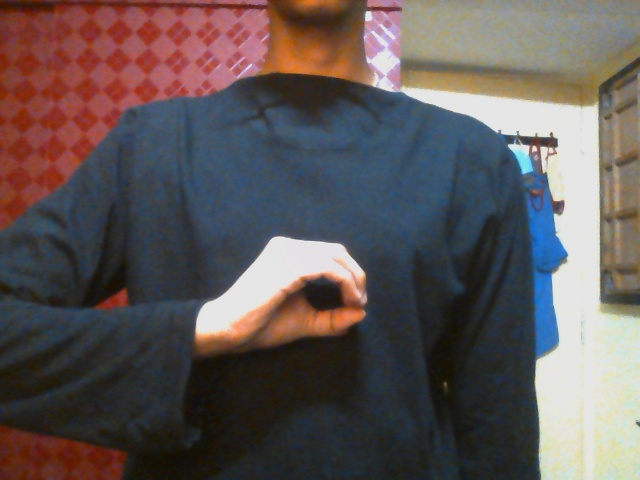O: (220, 231, 373, 362)
